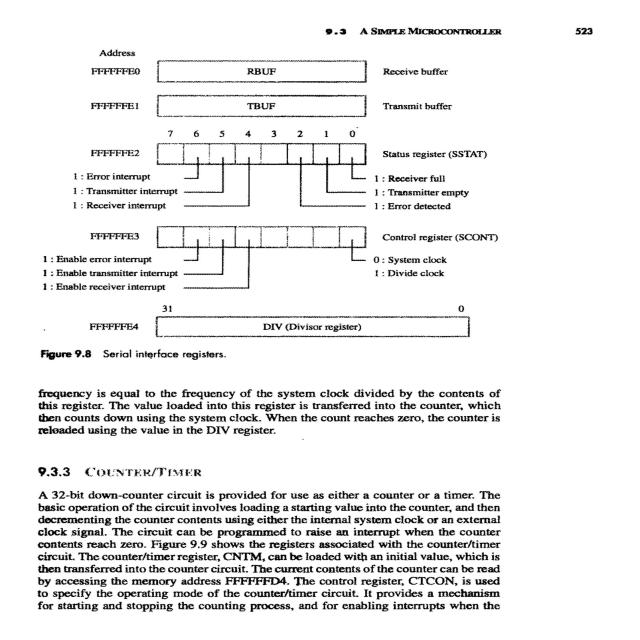diagram: (0, 41, 555, 375)
